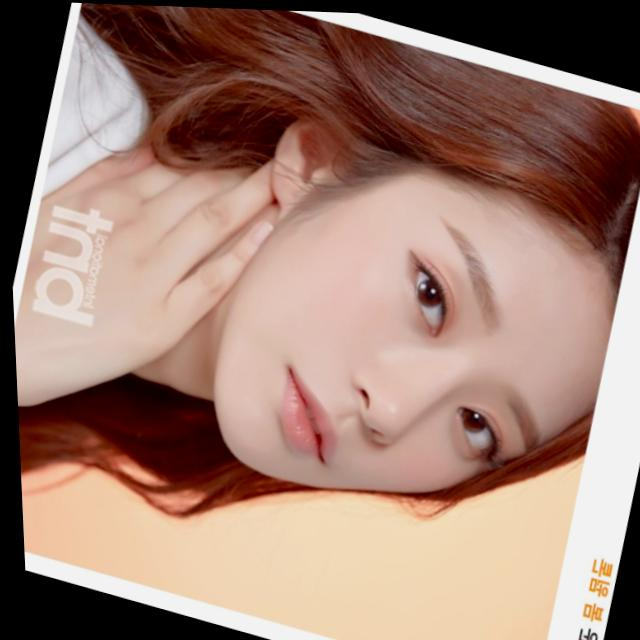face: (188, 125, 633, 551)
